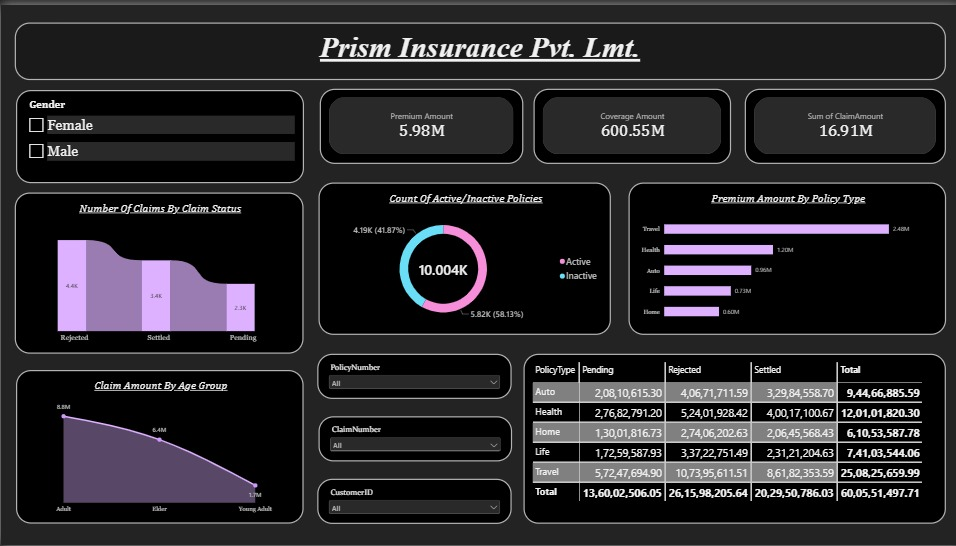

The dashboard page shown, as its layout file describes it:
{"tool":"powerbi","page":{"name":"Page 1","canvas":[1920,1080],"ordinal":0},"visuals":[{"type":"slicer","fields":{"Values":["InsuranceData.PolicyNumber"]},"box":[632.5,697.5,389.1,90.5],"z":0},{"type":"slicer","fields":{"Values":["InsuranceData.ClaimNumber"]},"box":[635,822.5,387.3,90.5],"z":1000},{"type":"slicer","fields":{"Values":["InsuranceData.CustomerID"]},"box":[632.5,947.5,389.1,90.5],"z":2000},{"type":"textbox","box":[27.5,35,1862.5,115],"z":3000},{"type":"cardVisual","fields":{"Data":["Sum(InsuranceData.PremiumAmount)"]},"box":[637.5,167.5,407.5,150],"z":4000},{"type":"cardVisual","fields":{"Data":["Sum(InsuranceData.CoverageAmount)"]},"box":[1065,167.5,395,150],"z":5000},{"type":"cardVisual","fields":{"Data":["Sum(InsuranceData.ClaimAmount)"]},"box":[1487.5,167.5,402.5,150],"z":6000},{"type":"slicer","fields":{"Values":["InsuranceData.Gender"]},"box":[30,170,576,186],"z":7000},{"type":"ribbonChart","title":" Number Of Claims By Claim Status","fields":{"Category":["InsuranceData.ClaimStatus"],"Y":["CountNonNull(InsuranceData.ClaimStatus)"]},"box":[27.5,375,577.5,322.5],"z":8000},{"type":"barChart","title":"Premium Amount By Policy Type","fields":{"Category":["InsuranceData.PolicyType"],"Y":["Sum(InsuranceData.PremiumAmount)"]},"box":[1255,355,635,305],"z":9000},{"type":"lineChart","title":"Claim Amount By Age Group ","fields":{"Category":["InsuranceData.Age Group"],"Y":["Sum(InsuranceData.ClaimAmount)"]},"box":[30,730,575,307.5],"z":10000},{"type":"donutChart","title":"Count Of Active/Inactive Policies","fields":{"Category":["InsuranceData.Active/Inactive"],"Y":["CountNonNull(InsuranceData.Active/Inactive)"]},"box":[635,355,585,305],"z":11000},{"type":"pivotTable","fields":{"Columns":["InsuranceData.ClaimStatus"],"Rows":["InsuranceData.PolicyType"],"Values":["Sum(InsuranceData.CoverageAmount)"]},"box":[1045,697.5,845,340],"z":12000}]}

Visuals, with their boxes in screenshot pixels (x1, y1, x2, y2), scaled from the page's 1920x1080 canvas onto the 956x546 screenshot:
slicer - InsuranceData.PolicyNumber: (315,353,509,398)
slicer - InsuranceData.ClaimNumber: (316,416,509,462)
slicer - InsuranceData.CustomerID: (315,479,509,525)
textbox: (14,18,941,76)
cardVisual - Sum(InsuranceData.PremiumAmount): (317,85,520,161)
cardVisual - Sum(InsuranceData.CoverageAmount): (530,85,727,161)
cardVisual - Sum(InsuranceData.ClaimAmount): (741,85,941,161)
slicer - InsuranceData.Gender: (15,86,302,180)
" Number Of Claims By Claim Status" ribbonChart: (14,190,301,353)
"Premium Amount By Policy Type" barChart: (625,179,941,334)
"Claim Amount By Age Group " lineChart: (15,369,301,525)
"Count Of Active/Inactive Policies" donutChart: (316,179,607,334)
pivotTable - InsuranceData.ClaimStatus x InsuranceData.PolicyType: (520,353,941,525)
